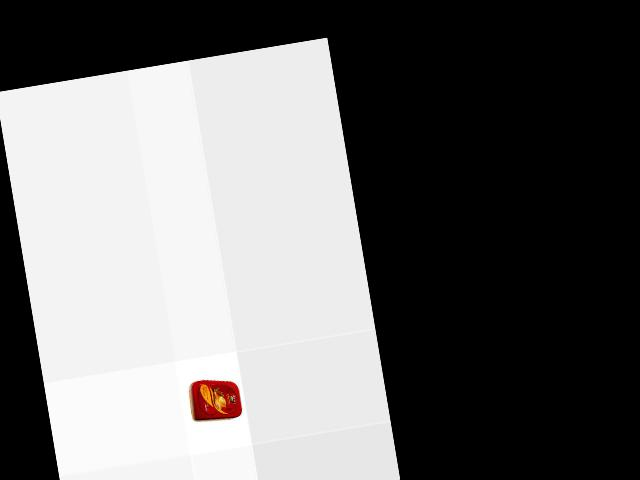cheese: (186, 374, 246, 426)
